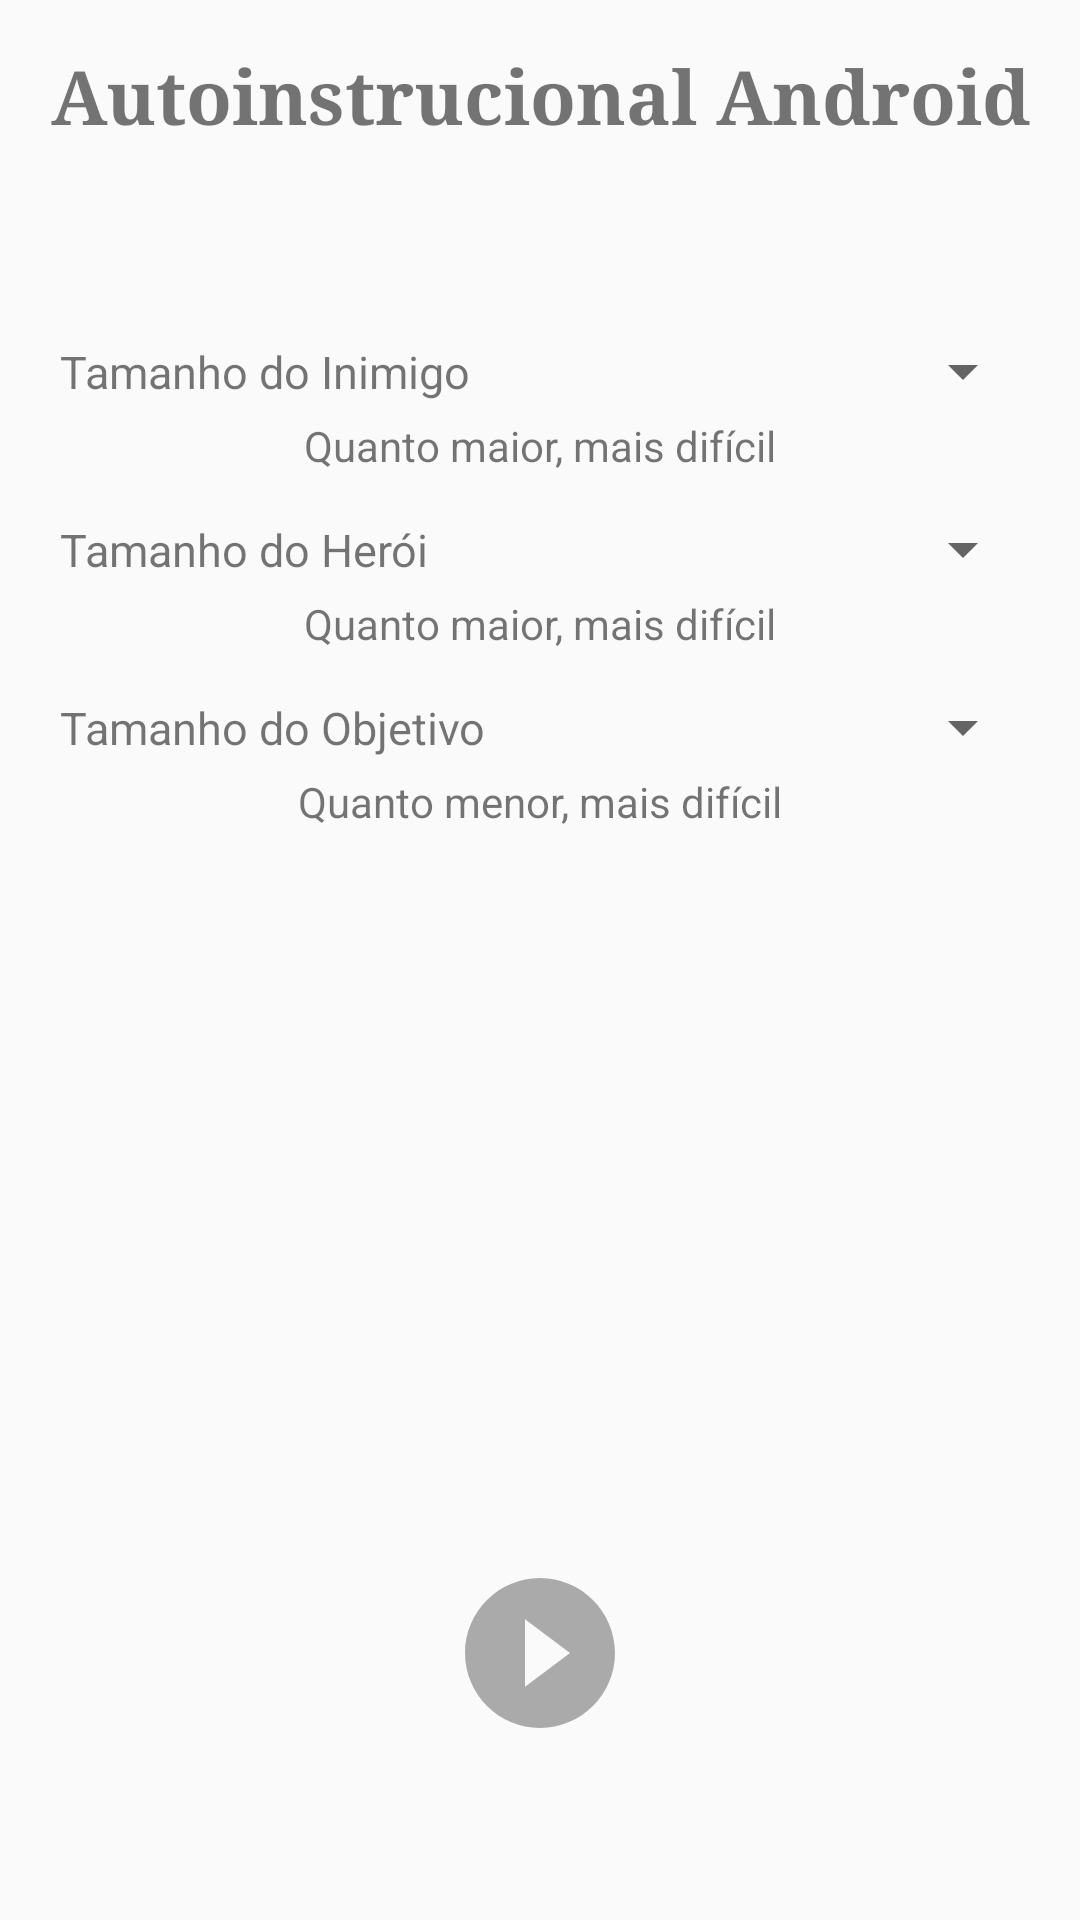

Point at icon controls on the screen. Image size 1080w x 1920h, points as (x=x, y=y).
play: (x=540, y=1653)
